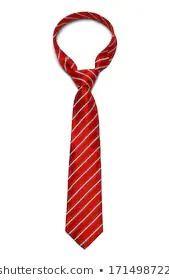F_tie: (42, 8, 128, 254)
